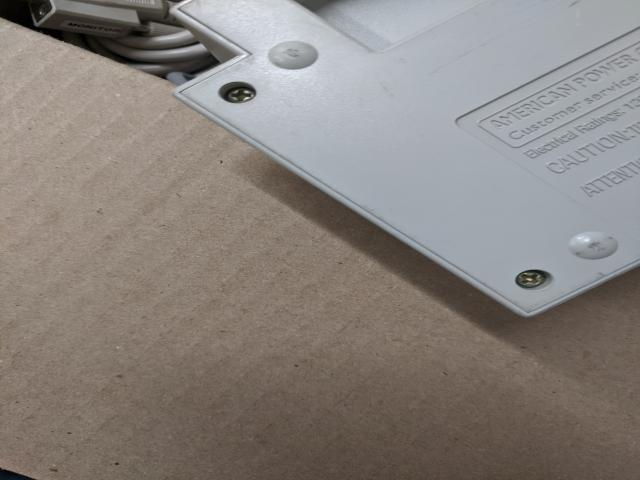CRS: (220, 84, 260, 106), (516, 268, 556, 289)
